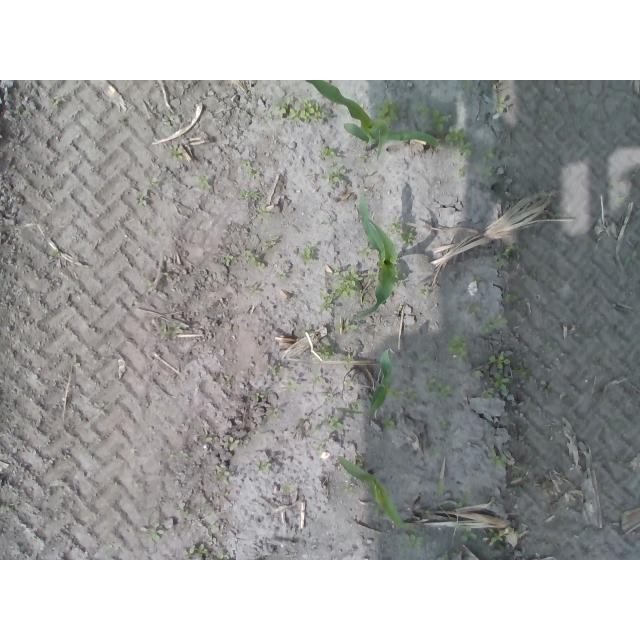Maize: (305, 80, 440, 164), (357, 194, 400, 320), (336, 456, 407, 529), (370, 347, 396, 418)
Weeds: (417, 101, 472, 156), (481, 351, 530, 402), (320, 266, 365, 315), (274, 94, 330, 123), (375, 97, 401, 127), (479, 311, 508, 336), (239, 191, 266, 217), (493, 246, 520, 272), (425, 376, 455, 399), (447, 334, 470, 361), (406, 528, 427, 553), (481, 526, 504, 547), (390, 223, 413, 244), (182, 544, 207, 561), (243, 249, 265, 268), (141, 521, 163, 540), (321, 168, 345, 184), (455, 487, 473, 507), (336, 317, 356, 335), (254, 457, 274, 475), (223, 436, 244, 453), (623, 248, 640, 268), (489, 450, 508, 467), (242, 159, 258, 179), (263, 234, 282, 250), (460, 528, 480, 543), (8, 106, 33, 118), (301, 239, 315, 260), (206, 523, 218, 546), (315, 347, 334, 361), (215, 468, 231, 484), (494, 98, 510, 114), (401, 387, 418, 402), (349, 400, 364, 417), (135, 191, 150, 207), (506, 486, 527, 497), (267, 407, 282, 422), (533, 377, 548, 392), (481, 147, 496, 162), (195, 173, 209, 189), (437, 477, 448, 496), (436, 550, 456, 560), (219, 253, 233, 267), (435, 418, 450, 431), (383, 416, 396, 431), (320, 146, 336, 158), (504, 293, 521, 304), (169, 147, 182, 161), (145, 176, 160, 188), (417, 285, 431, 297), (479, 166, 494, 177), (468, 274, 480, 287), (329, 416, 342, 428), (344, 350, 357, 362), (344, 482, 357, 494), (201, 435, 215, 445), (312, 375, 326, 385), (283, 484, 298, 493), (357, 245, 369, 256), (50, 96, 61, 108), (511, 464, 521, 477), (356, 154, 369, 164), (275, 271, 288, 281), (285, 383, 296, 394), (178, 450, 191, 459), (273, 362, 285, 371), (218, 552, 231, 560), (455, 168, 466, 177), (256, 392, 265, 401)
